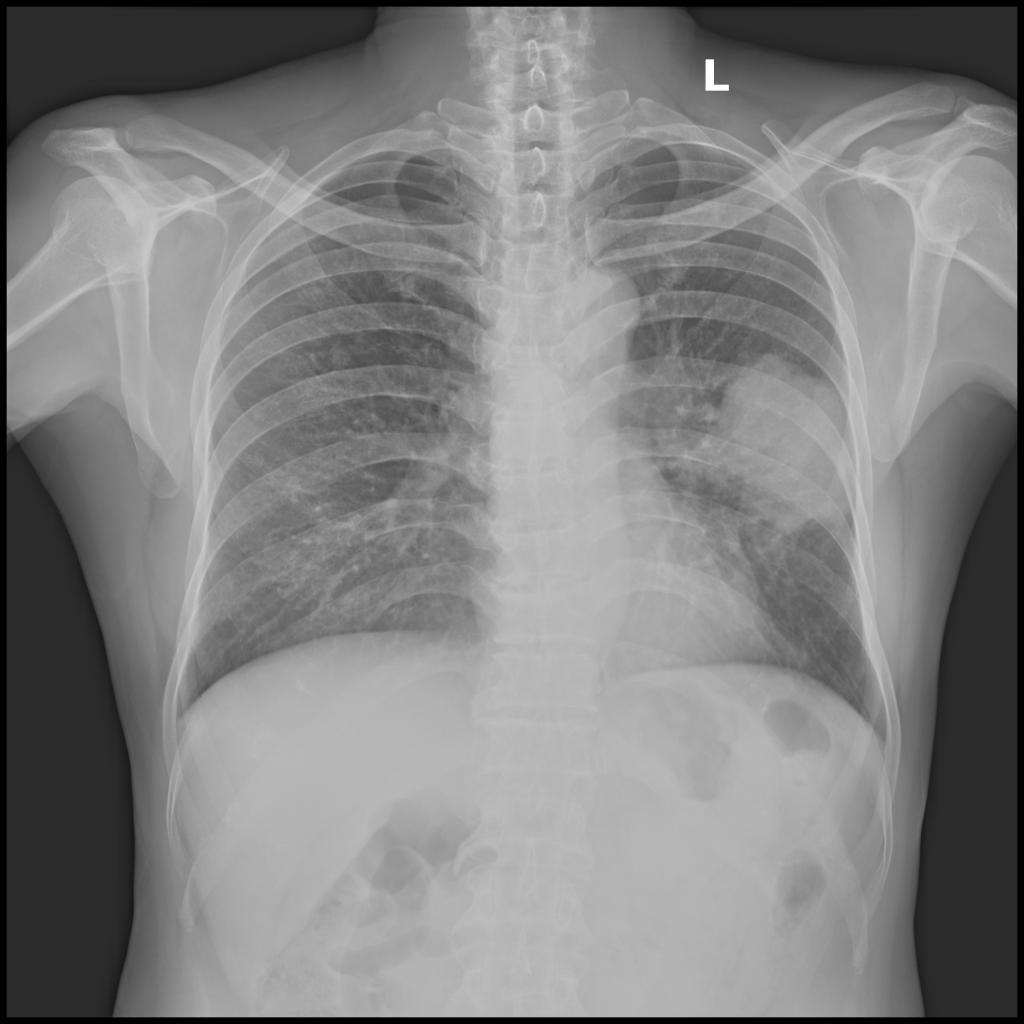Nodule: (714, 350, 853, 528)
